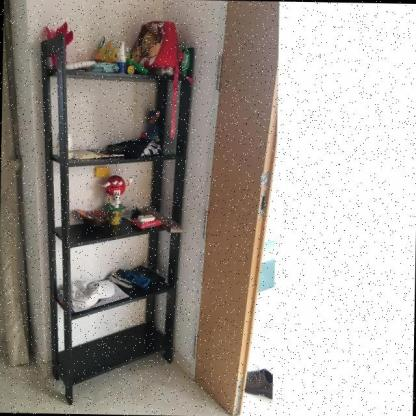Shelf: (31, 31, 197, 410)
